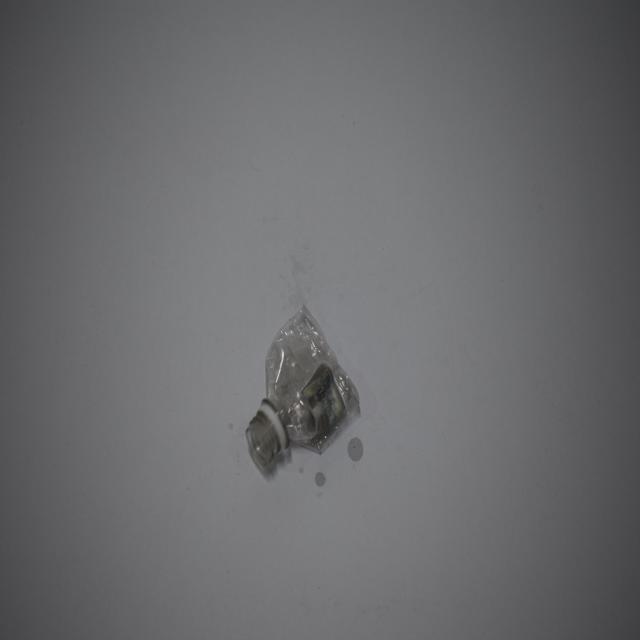bottle: (242, 304, 362, 477)
